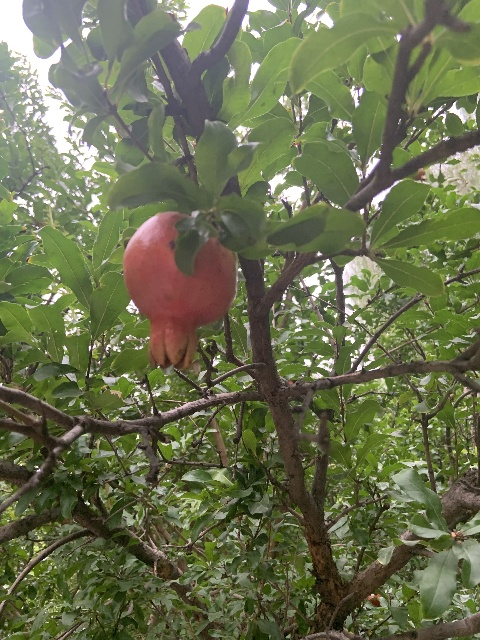ripe: (122, 210, 237, 371)
